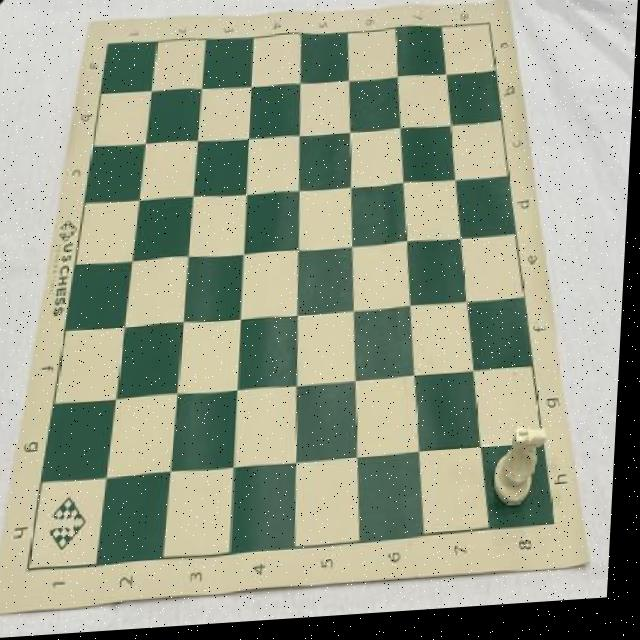white-king: (498, 433, 554, 517)
